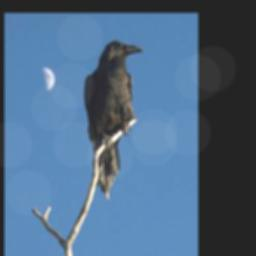Crow: (83, 39, 144, 202)
